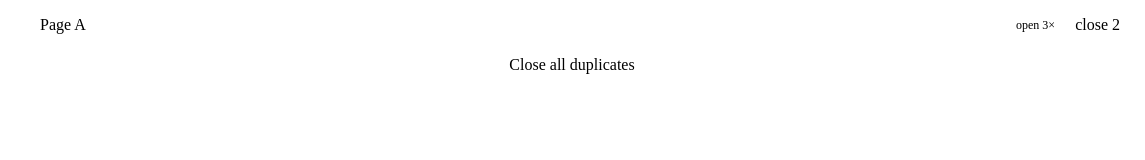
Duplicates › shows an inline error on {ok:false} and does not throw
Click the button "close 2": (1098, 25) [1067,14,1128,36]
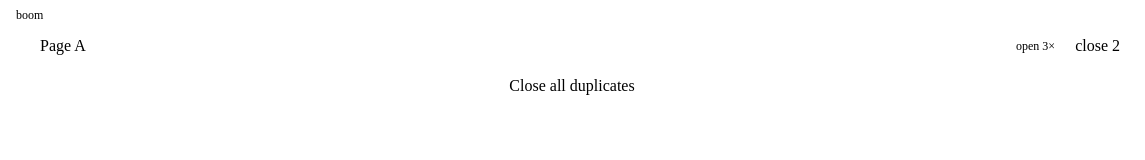
Check: the message reads "boom", box [16,8,43,22]
